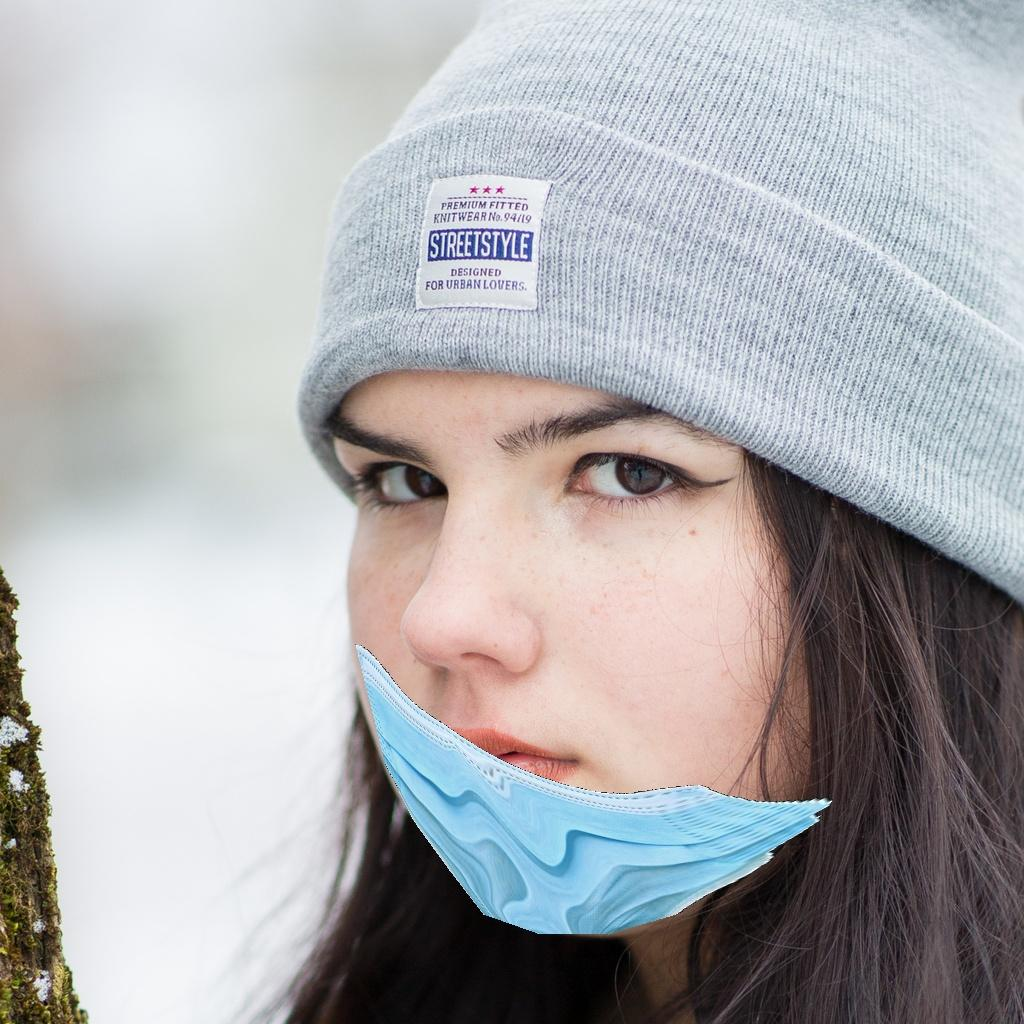Máscara Incorreta: (310, 332, 812, 935)
